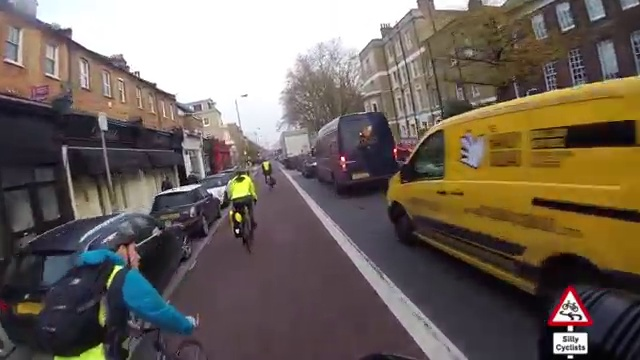cyclist_back: (224, 169, 261, 256), (261, 154, 278, 191)
